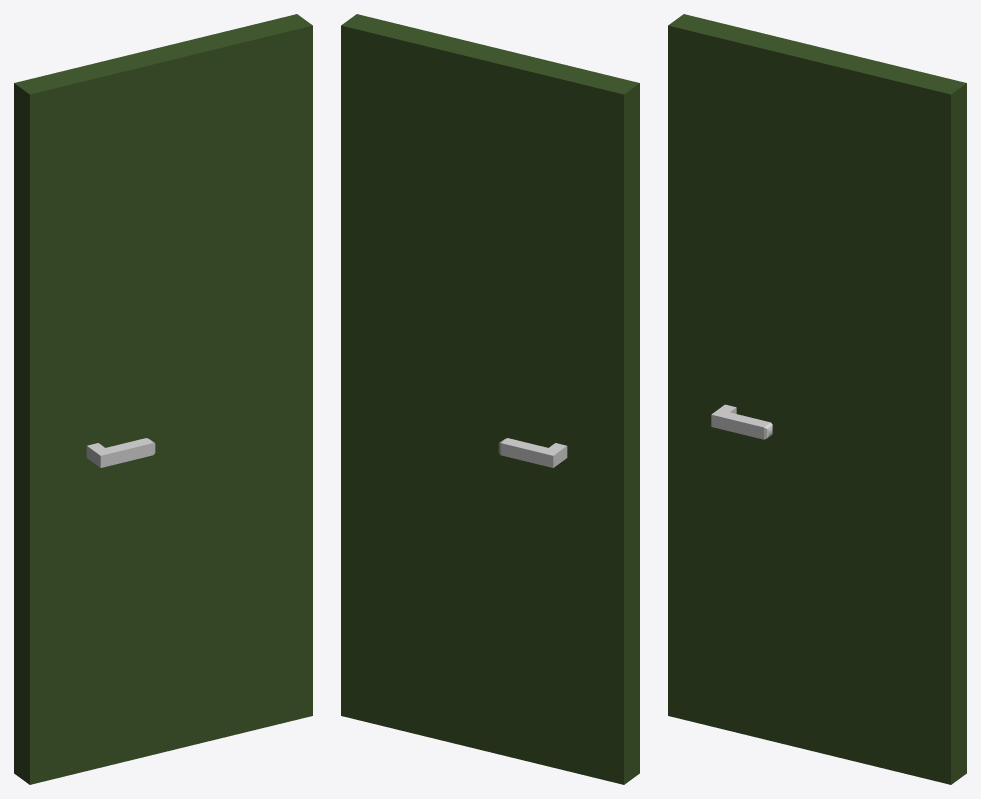
Rendered from Ma_Door.fbx.
3 renders of one model, left to right at view 1: azimuth 30°, elevation 25°; view 2: azimuth 150°, elevation 25°; view 3: azimuth 330°, elevation 25°, orthographic.
Visible parts, largest first — view 1: Ma_Door; view 2: Ma_Door; view 3: Ma_Door.
Part boxes in pixels (x1,y1,x2,y2): Ma_Door: (14, 14, 312, 784); Ma_Door: (341, 14, 639, 784); Ma_Door: (668, 14, 966, 784).
Size of the model in its own units: 718 by 1674 by 191.
